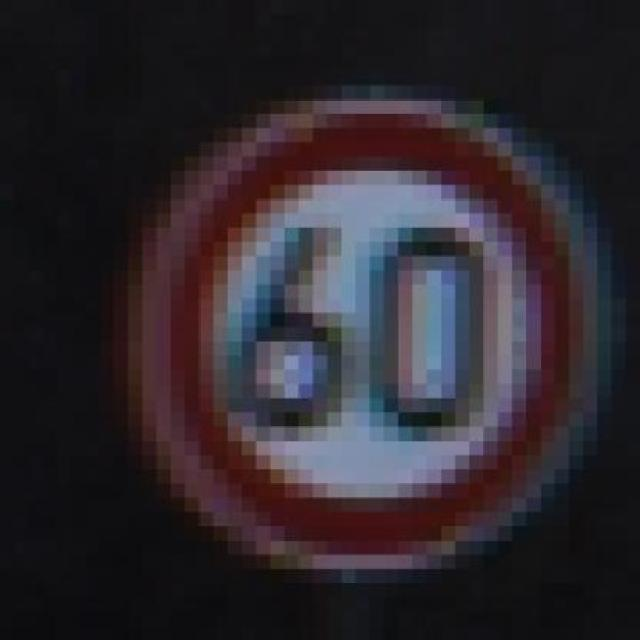forb_speed_over_60: (153, 107, 590, 570)
